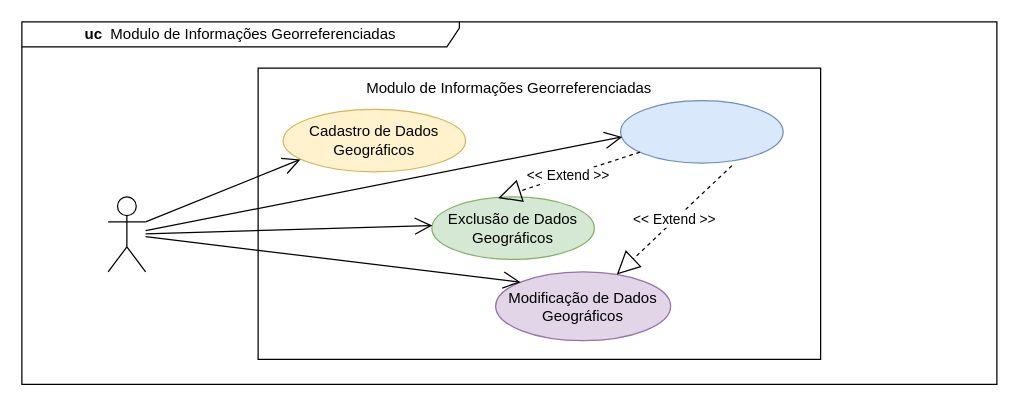
This 1019x406 diagram has some shape labels left out. Here are the shapes that lost their labels. From the top down, the centre of each, then its label:
At (701,131): "Consulta de Dados Geográficos".
At (126,234): "Funcionário".
